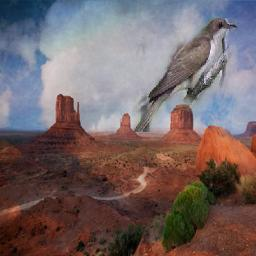Cuckoo: (133, 18, 238, 132)
